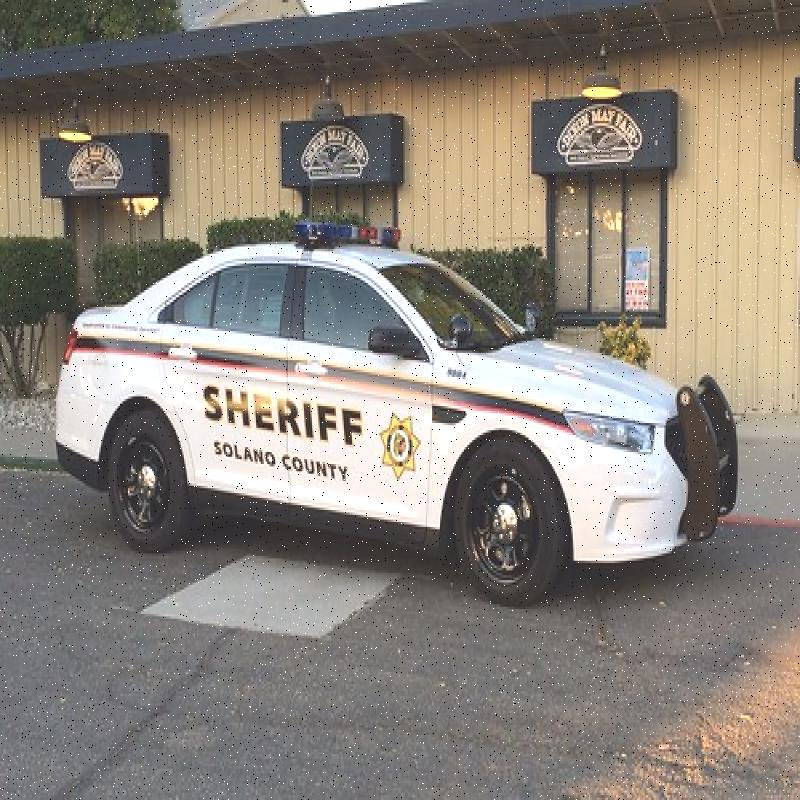AmbulanceSiren: (301, 199, 406, 247)
